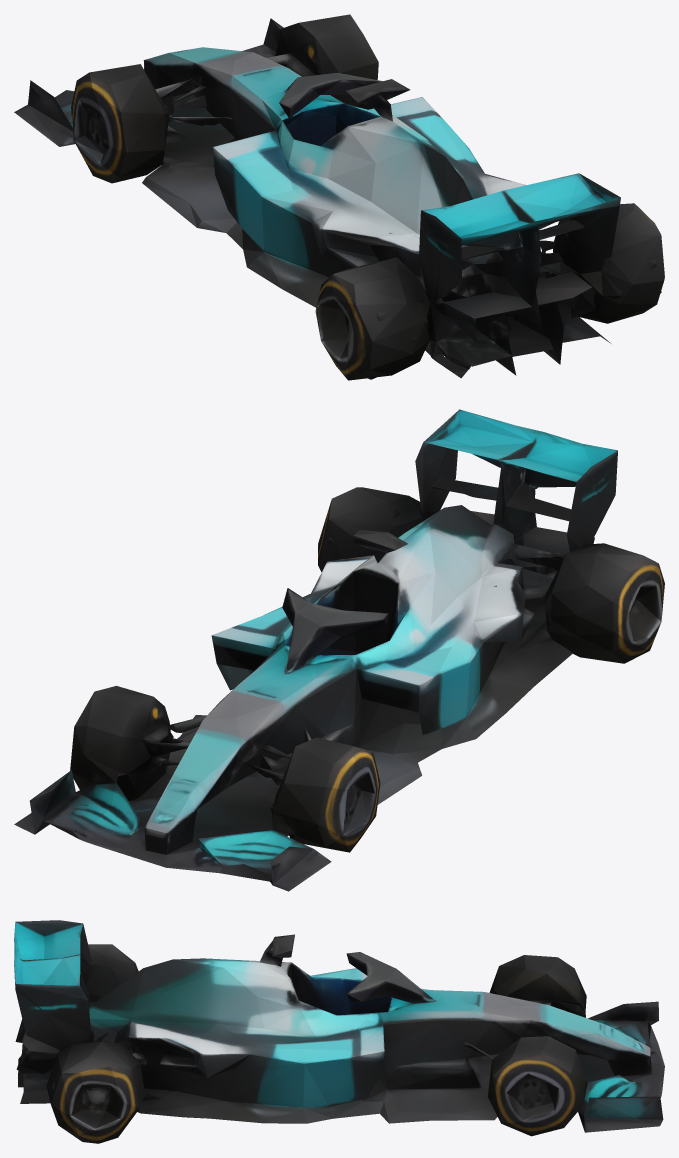
The model's file is f1-car.glb.
The picture shows the model from 3 angles, top to bottom: view 1: azimuth 30°, elevation 25°; view 2: azimuth 150°, elevation 25°; view 3: azimuth 270°, elevation 25°; orthographic projection. The views are drawn at different scales.
Visible parts, largest first — view 1: geometry_0; view 2: geometry_0; view 3: geometry_0.
Boxes of the visible parts, left/top/right/bottom form: geometry_0: left=14, top=14, right=664, bottom=380; geometry_0: left=14, top=409, right=664, bottom=891; geometry_0: left=14, top=920, right=664, bottom=1143.
Bounding box in the file's own units: 0.4558 × 0.2476 × 0.987.
1 material, 1 textured.
